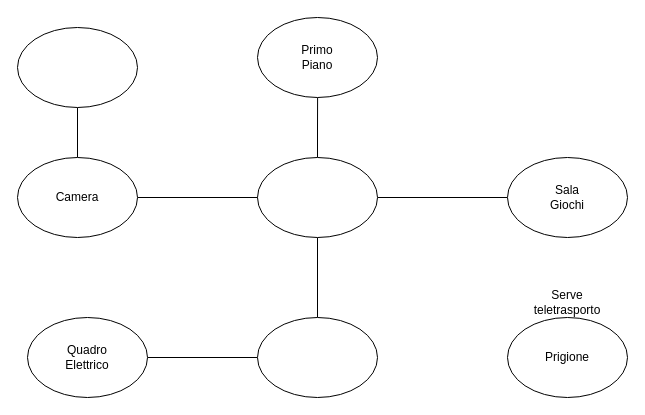
This 645x415 diagram has some shape labels left out. Each missing label, with the box of its shape:
Bosco: (16, 26, 138, 108)
Cantina: (256, 316, 378, 398)
Piano Terra: (256, 156, 378, 238)
